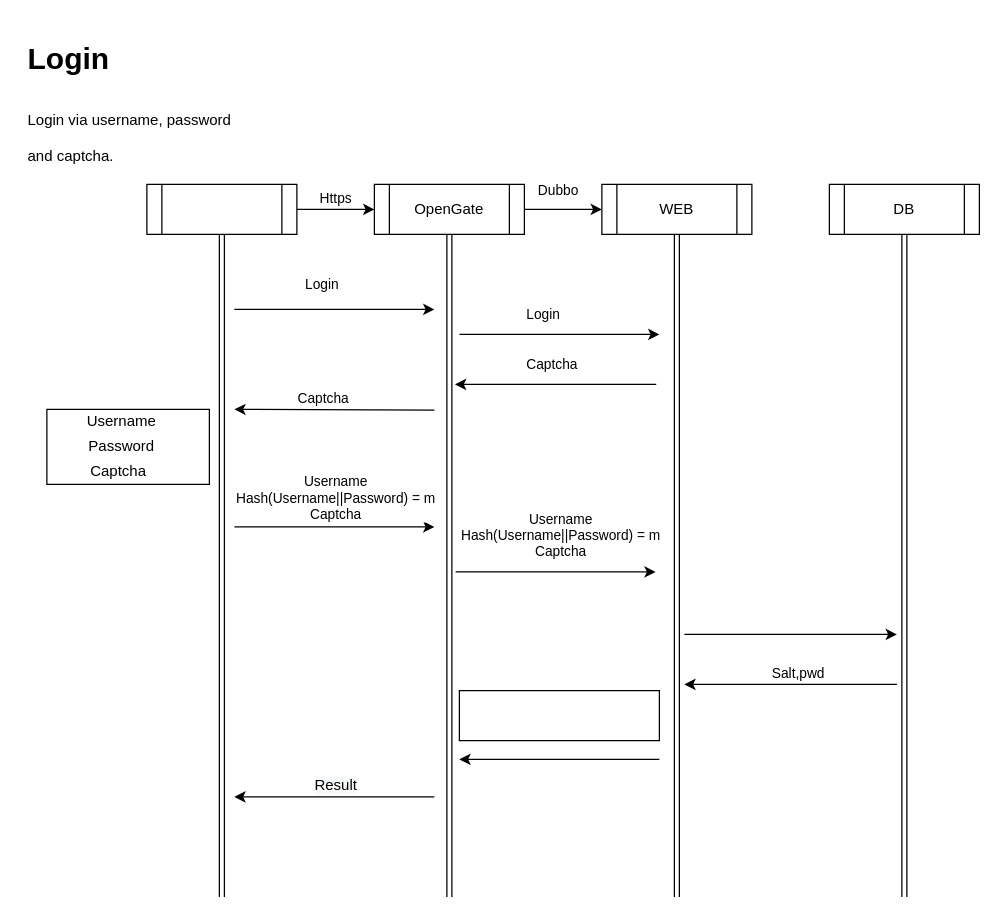
Some shapes in this 1001 by 919 pixel diagram are drawn without their labels. The box of each missing label's shape, as (x1, y1, x2, y2) in pixels:
Front: (146, 183, 297, 234)
Result = [ Hash(m || salt) == pwd ]: (458, 689, 659, 741)
